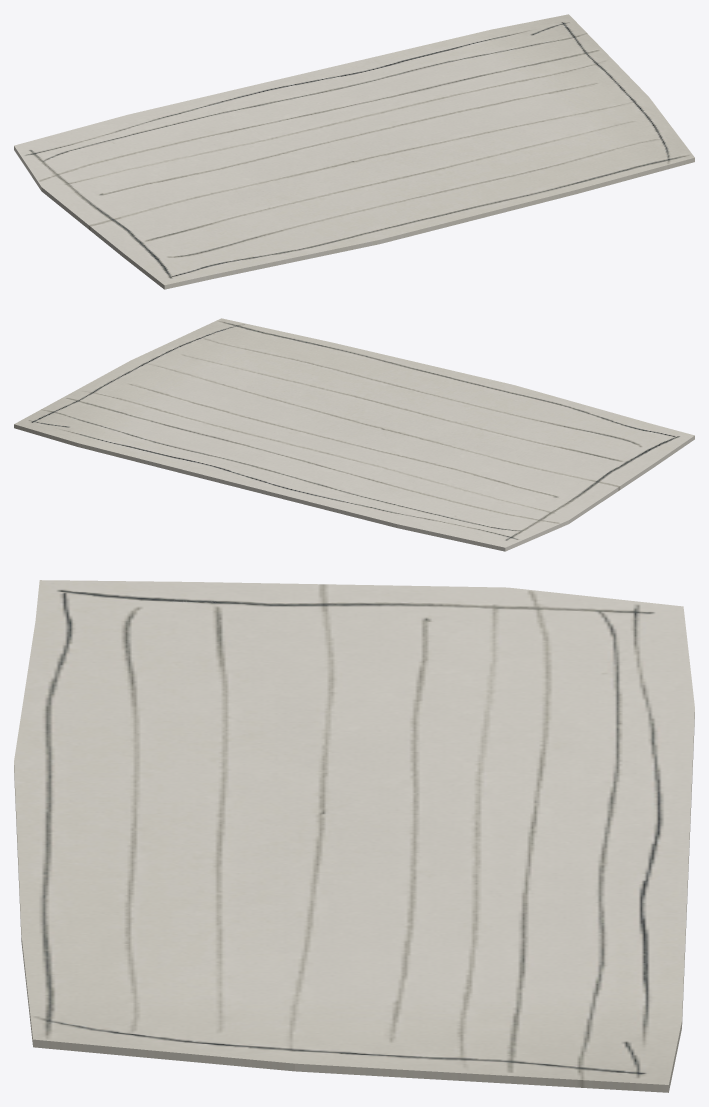
Rendered from kyoukai_yane.fbx.
3 views of the same model, one above another, from view 1: azimuth 30°, elevation 25°; view 2: azimuth 150°, elevation 25°; view 3: azimuth 270°, elevation 25° (orthographic). The views are drawn at different scales.
Visible parts, largest first — view 1: Plane.002; view 2: Plane.002; view 3: Plane.002.
Boxes of the visible parts, <box> form: Plane.002: <box>14,14,694,289</box>; Plane.002: <box>14,318,694,551</box>; Plane.002: <box>14,580,694,1092</box>.
Size of the model in its own units: 653 by 4.71 by 372.
Materials: 1 (1 with a texture image).
